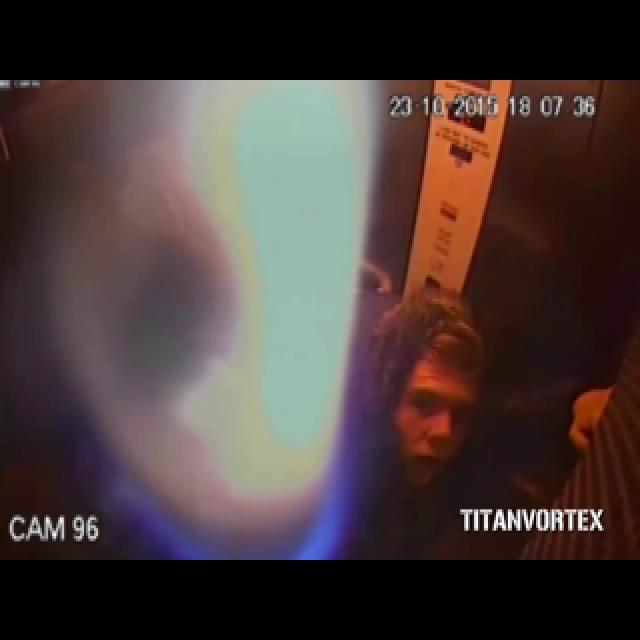arson: (18, 44, 599, 556)
